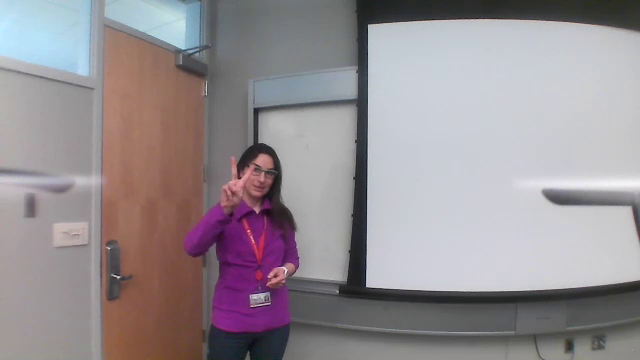peace: (218, 152, 257, 210)
